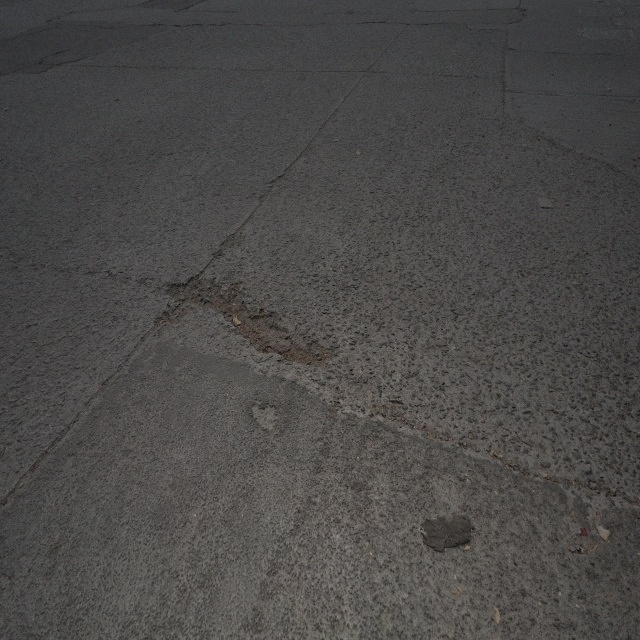pothole: (167, 274, 327, 371)
